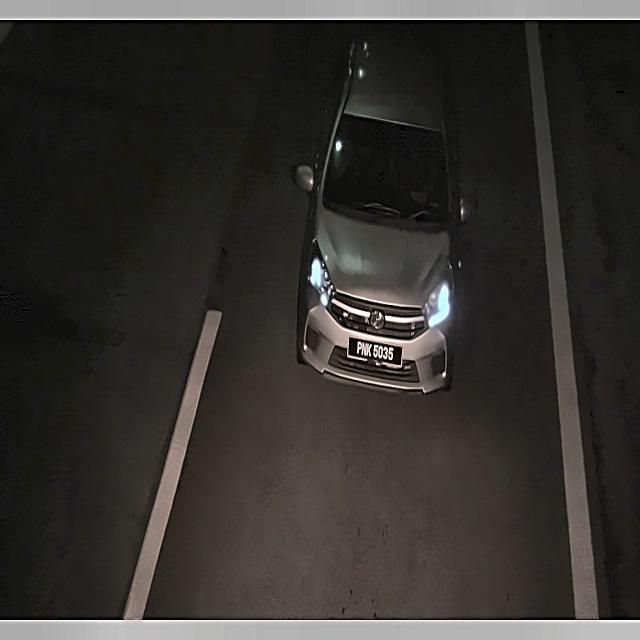car: (346, 333, 404, 374)
